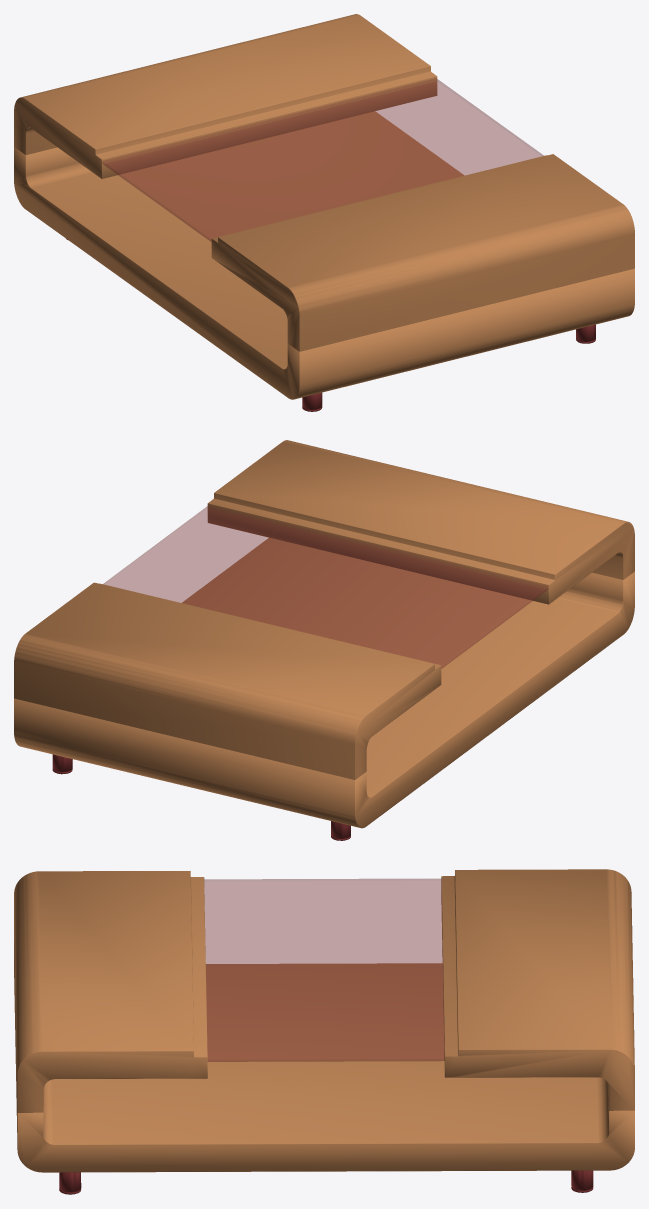
The model's file is table.glb.
3 views of the same model, one above another, from view 1: azimuth 30°, elevation 25°; view 2: azimuth 150°, elevation 25°; view 3: azimuth 270°, elevation 25° (orthographic). The views are drawn at different scales.
Visible parts, largest first — view 1: 247_низ_стола, 243_стекло, 242_ножки; view 2: 247_низ_стола, 243_стекло, 242_ножки; view 3: 247_низ_стола, 243_стекло, 242_ножки.
Boxes of the visible parts, bbox=[...] form: 247_низ_стола: bbox=[14, 14, 634, 399]; 243_стекло: bbox=[102, 78, 543, 241]; 242_ножки: bbox=[66, 239, 595, 411]; 247_низ_стола: bbox=[14, 440, 634, 828]; 243_стекло: bbox=[104, 505, 548, 668]; 242_ножки: bbox=[52, 754, 350, 840]; 247_низ_стола: bbox=[14, 869, 634, 1172]; 243_стекло: bbox=[204, 879, 444, 1061]; 242_ножки: bbox=[59, 1170, 593, 1194].
Size of the model in its own units: 69.24 by 26.89 by 99.62.
